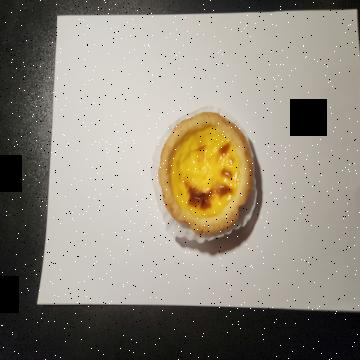EggTart: (157, 109, 253, 233)
